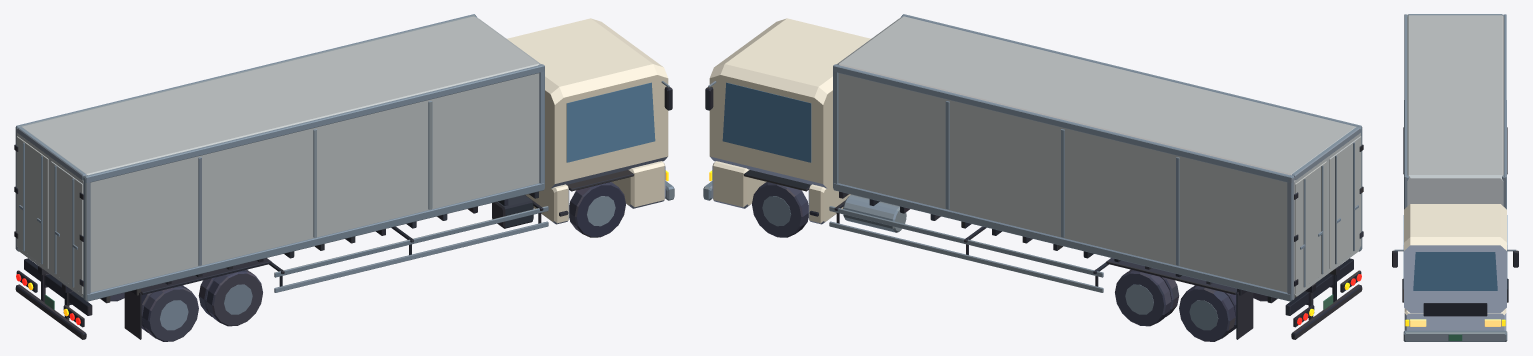
The model's file is HK_Truck_Large.glb.
The picture shows the model from 3 angles, left to right: view 1: azimuth 30°, elevation 25°; view 2: azimuth 150°, elevation 25°; view 3: azimuth 270°, elevation 25°; orthographic projection. The views are drawn at different scales.
Parts seen in each view (by area): view 1: HK_Truck_Large; view 2: HK_Truck_Large; view 3: HK_Truck_Large.
Boxes of the visible parts, x1,y1,x2,y2 form: HK_Truck_Large: (14,14,674,341); HK_Truck_Large: (703,14,1363,341); HK_Truck_Large: (1392,14,1518,341).
Size of the model in its own units: 12.01 by 3.62 by 3.07.
